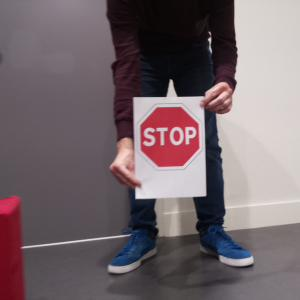stop: (137, 103, 202, 170)
